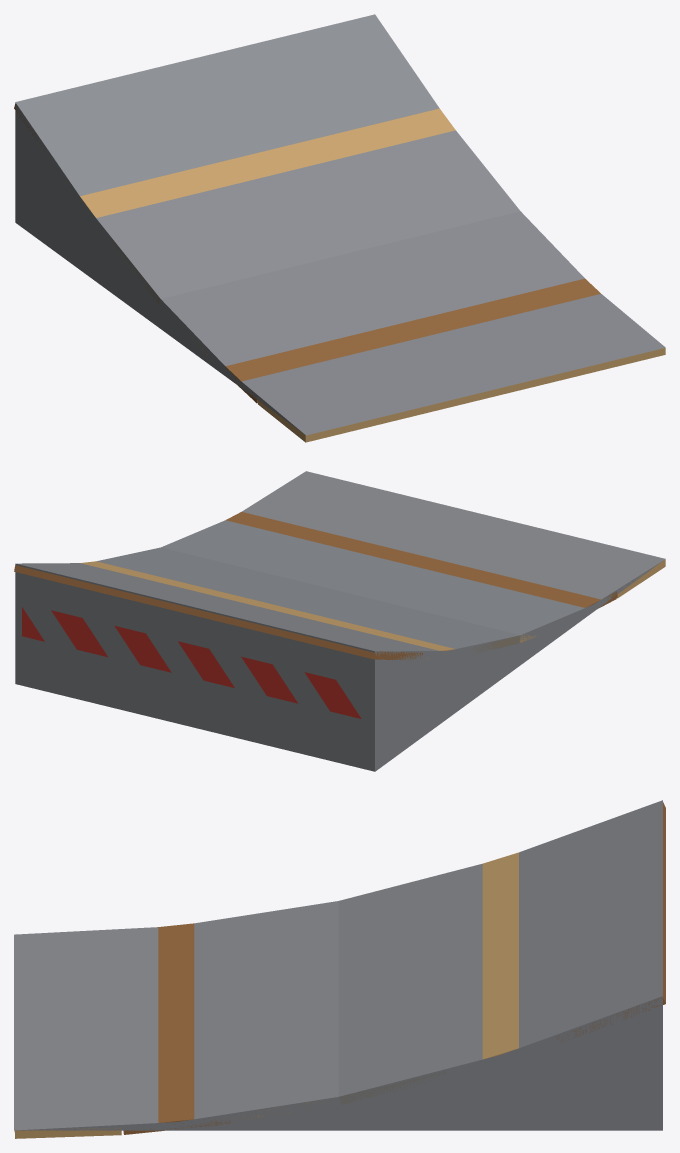
Rendered from prop_ramp_small.glb.
3 renders of one model, top to bottom at view 1: azimuth 30°, elevation 25°; view 2: azimuth 150°, elevation 25°; view 3: azimuth 270°, elevation 25°, orthographic. The views are drawn at different scales.
Parts seen in each view (by area): view 1: prop_ramp_small__col, prop_ramp_small__mesh; view 2: prop_ramp_small__col, prop_ramp_small__mesh; view 3: prop_ramp_small__col, prop_ramp_small__mesh.
Boxes of the visible parts, x1,y1,x2,y2 form: prop_ramp_small__col: (15, 14, 665, 435); prop_ramp_small__mesh: (14, 103, 665, 442); prop_ramp_small__col: (15, 471, 665, 771); prop_ramp_small__mesh: (14, 512, 665, 718); prop_ramp_small__col: (14, 800, 662, 1130); prop_ramp_small__mesh: (14, 802, 665, 1138).
Bounding box in the file's own units: 2.5 × 0.8498 × 3.52.
1 material, 1 textured.
